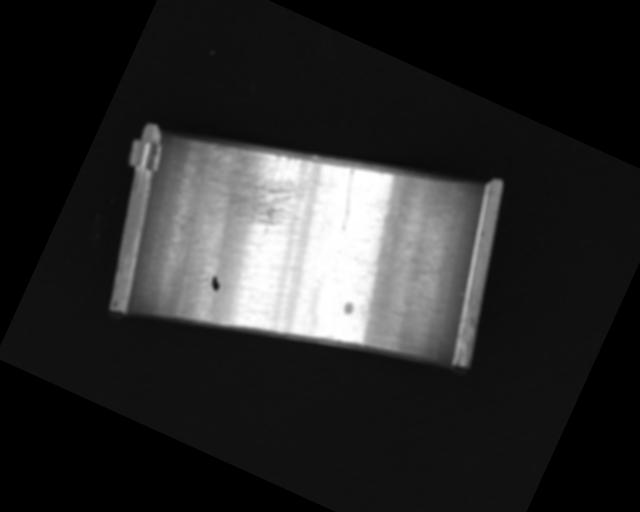blot: (208, 273, 223, 291)
bruise: (341, 300, 356, 316)
nick: (394, 264, 469, 360), (326, 167, 369, 231)
scratch: (186, 117, 327, 245)
